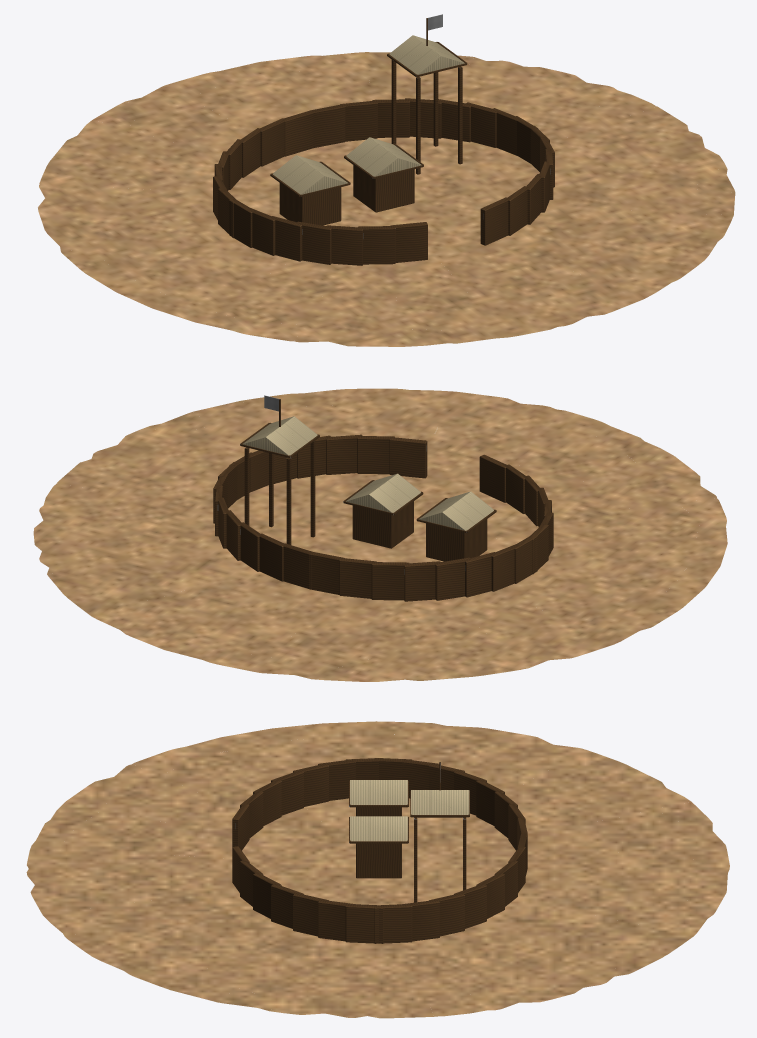
The model's file is fort-modern-israelite.glb.
The picture shows the model from 3 angles, top to bottom: view 1: azimuth 30°, elevation 25°; view 2: azimuth 150°, elevation 25°; view 3: azimuth 270°, elevation 25°; orthographic projection.
Visible parts, largest first — view 1: LOD0; view 2: LOD0; view 3: LOD0.
Part boxes in pixels (x1,y1,x2,y2): LOD0: (38, 14, 735, 346); LOD0: (33, 388, 727, 681); LOD0: (26, 721, 729, 1018).
Size of what is drawn, in the model's own units: 4.76 by 1.03 by 4.77.
Materials: 3 (3 with a texture image).
